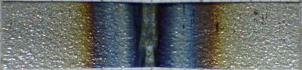soldas: (86, 2, 222, 69)
